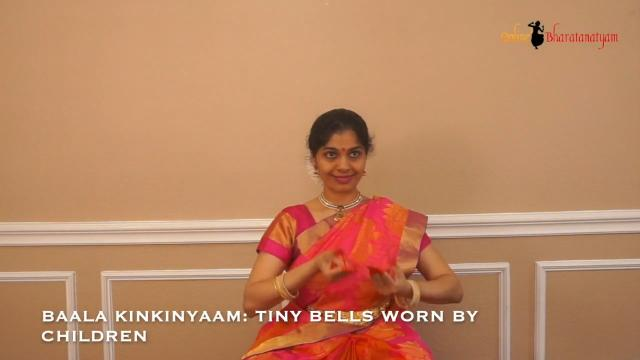kangul: (356, 251, 426, 313)
